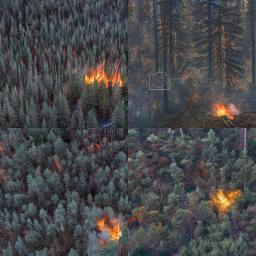Small fire: (83, 62, 127, 91), (211, 188, 243, 214), (96, 216, 123, 245), (211, 101, 240, 121)
